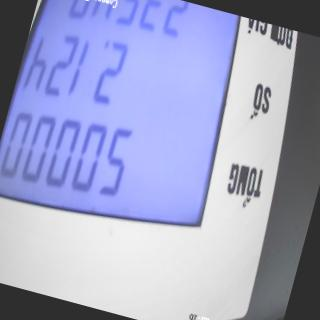screen: (0, 0, 261, 254)
